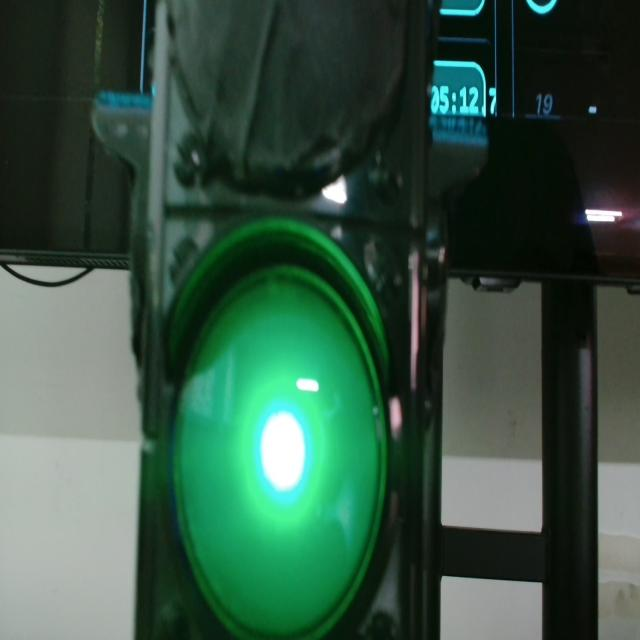green_light: (173, 265, 386, 638), (260, 412, 305, 491)
